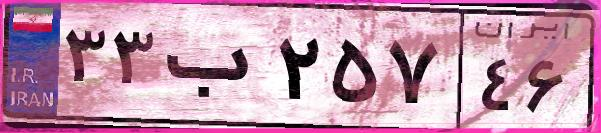2: (270, 28, 330, 110)
3: (57, 26, 110, 100), (110, 28, 158, 98)
4: (475, 38, 525, 113)
5: (330, 28, 385, 110)
6: (525, 38, 570, 115)
7: (385, 28, 445, 110)
ب: (158, 20, 270, 120)
